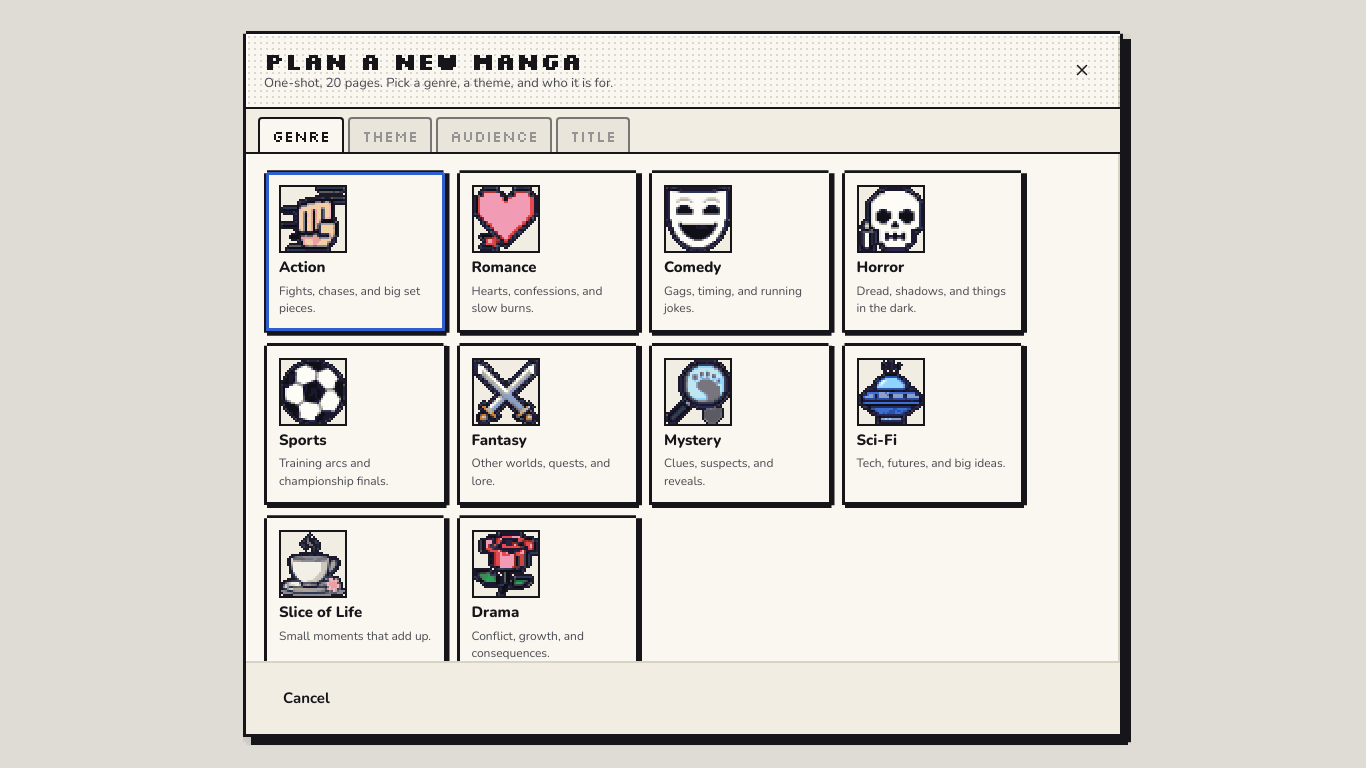
NewMangaWizard › the title step content sits in the two-column title-step wrapper
Click the button "Action Fights, chases, and big set pieces." at x=355, y=251, box [264,170,446,333]
(page scrolled)
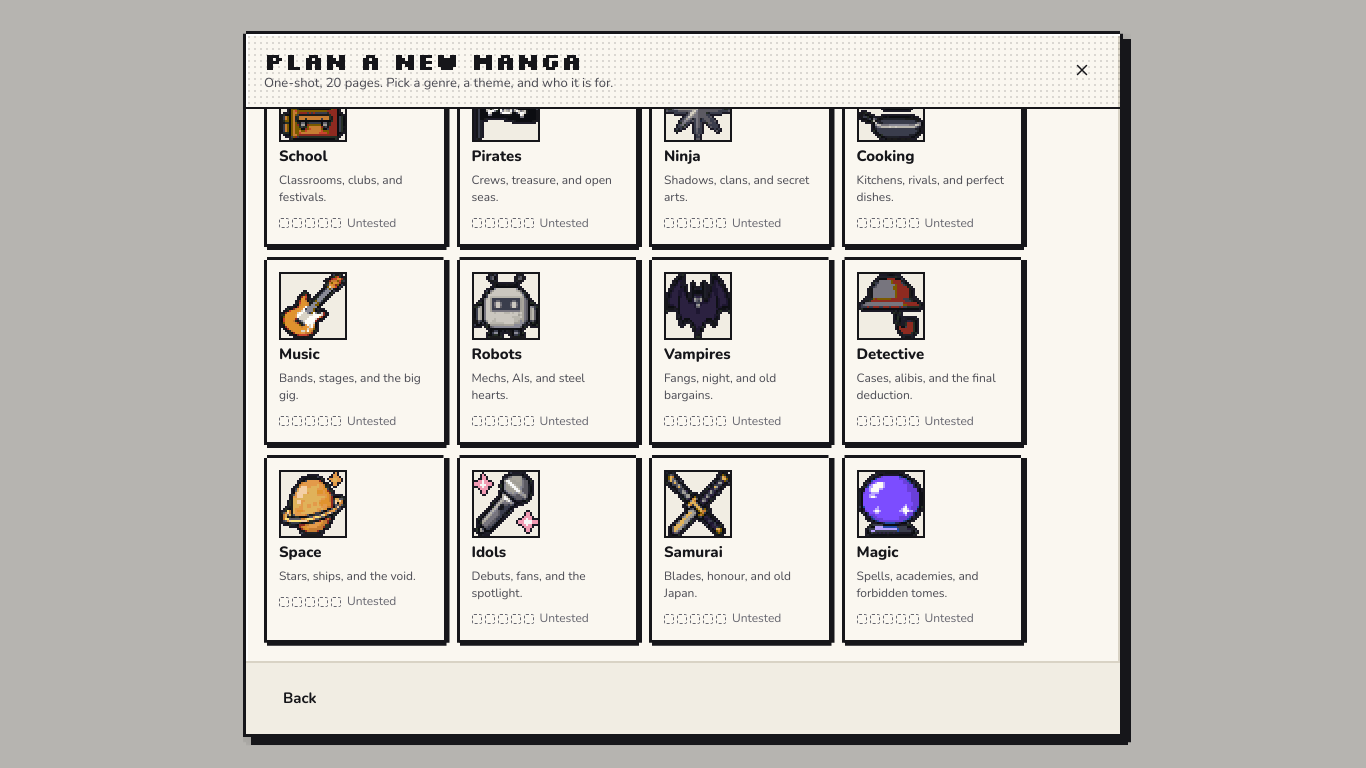
Click the button "Samurai Blades, honour, and old Japan. Untested" at x=740, y=549, box [649,455,832,643]
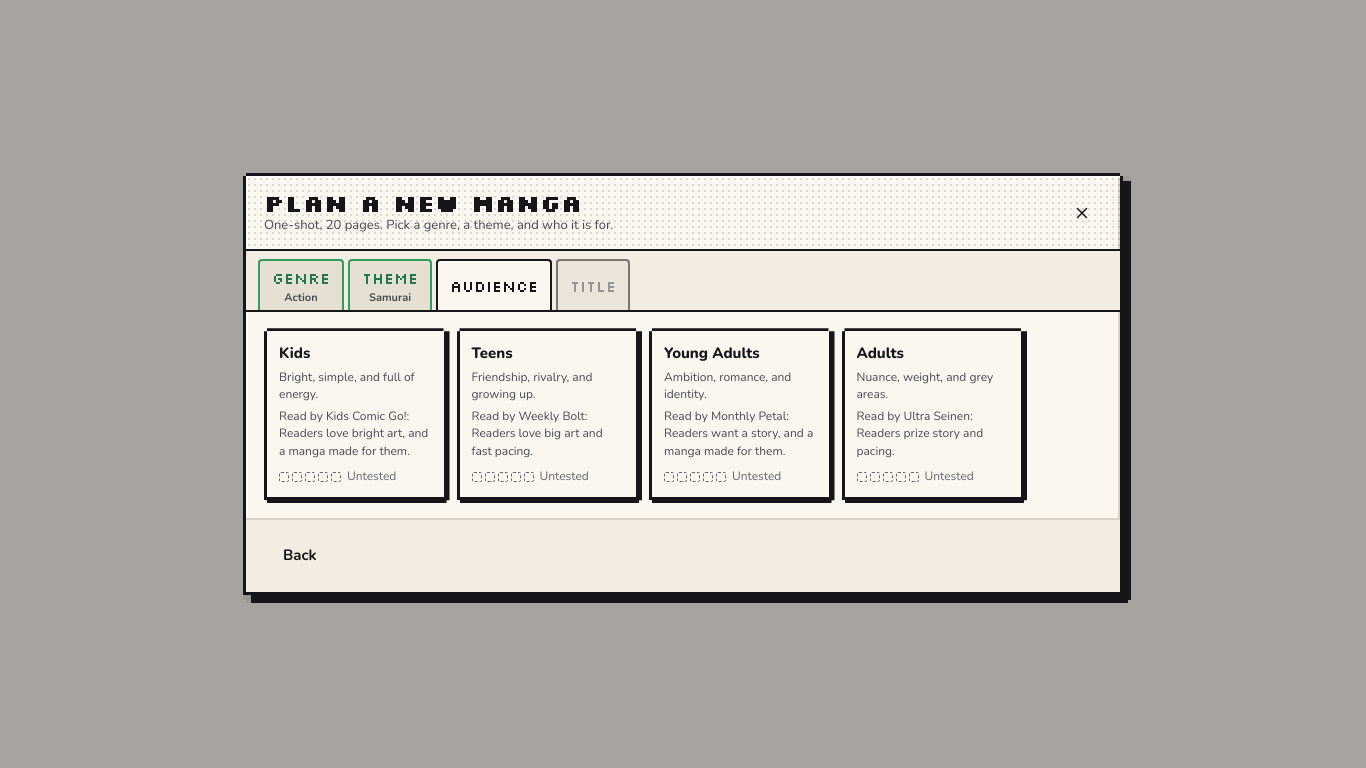
Click the button "Teens" at x=548, y=414, box [456,328,639,500]
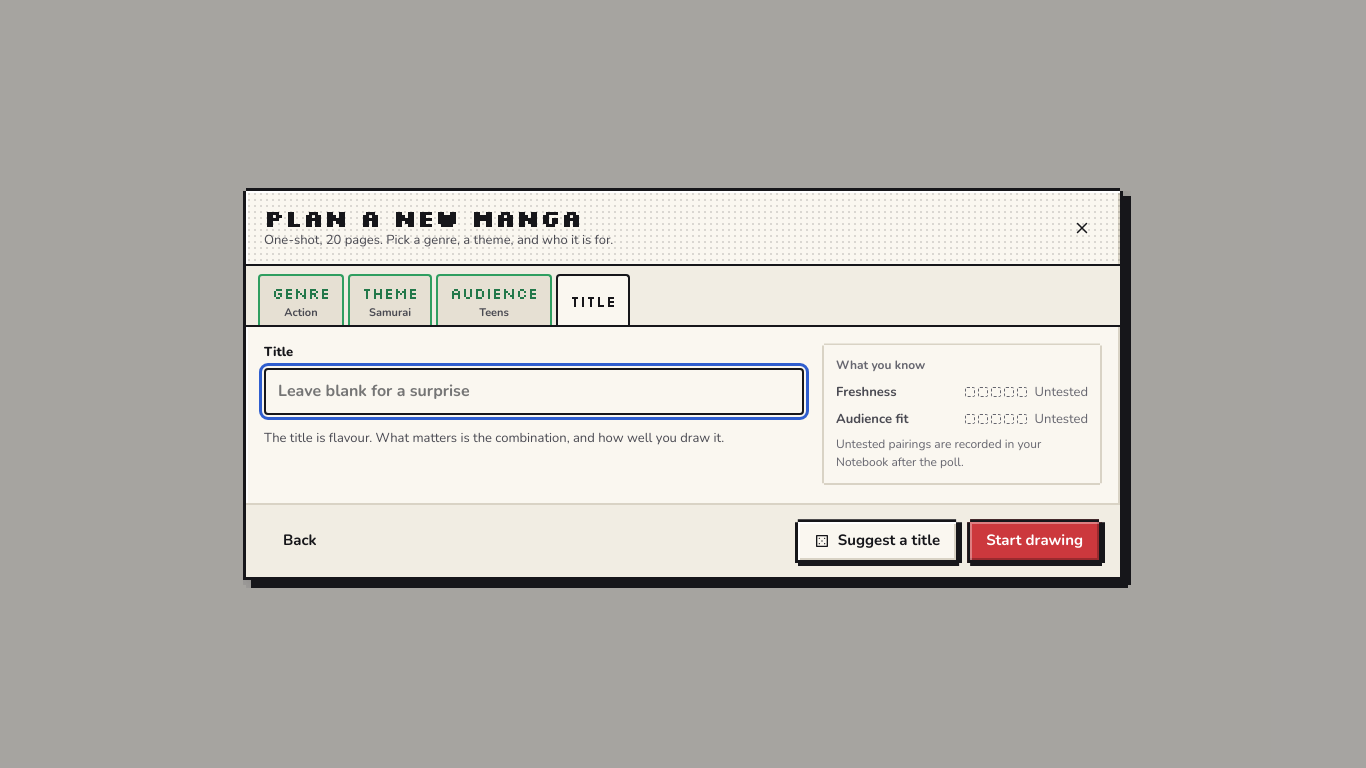
Expected: the element with class "title-step" is shown, [264,343,1102,485]
Expected: the field labelled "Title" is shown, [264,368,804,415]
Expected: the element with class "flat" is shown, [822,343,1102,485]
